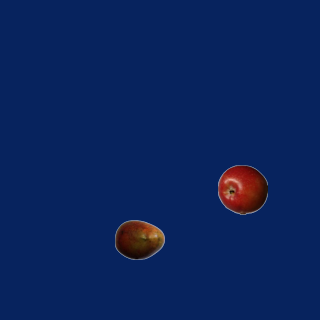Apple Braeburn: (217, 164, 267, 214)
Mango Red: (114, 214, 164, 264)
